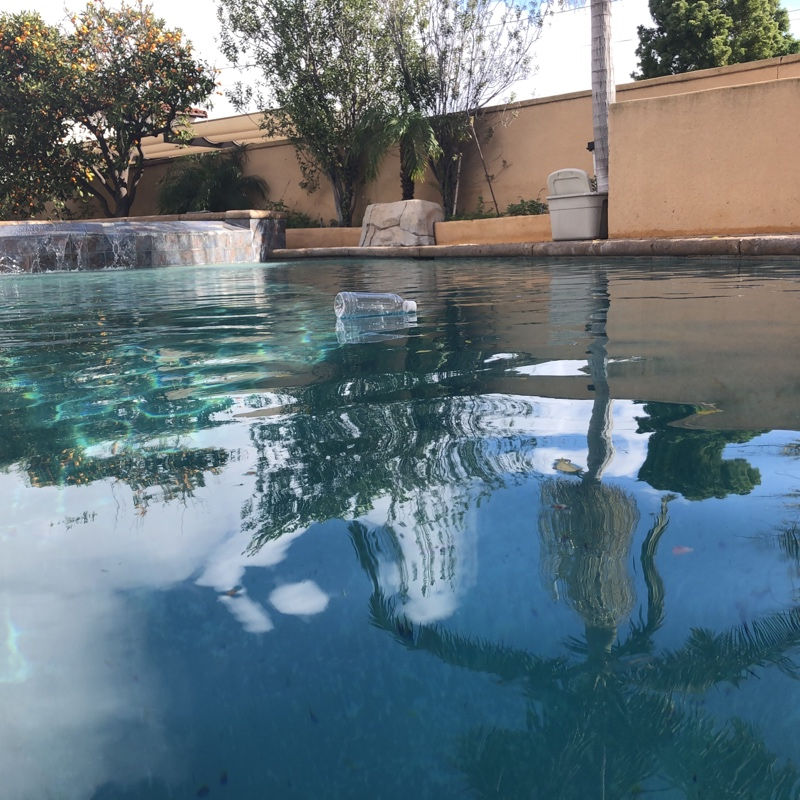Plastic Bottle: (331, 290, 419, 318)
